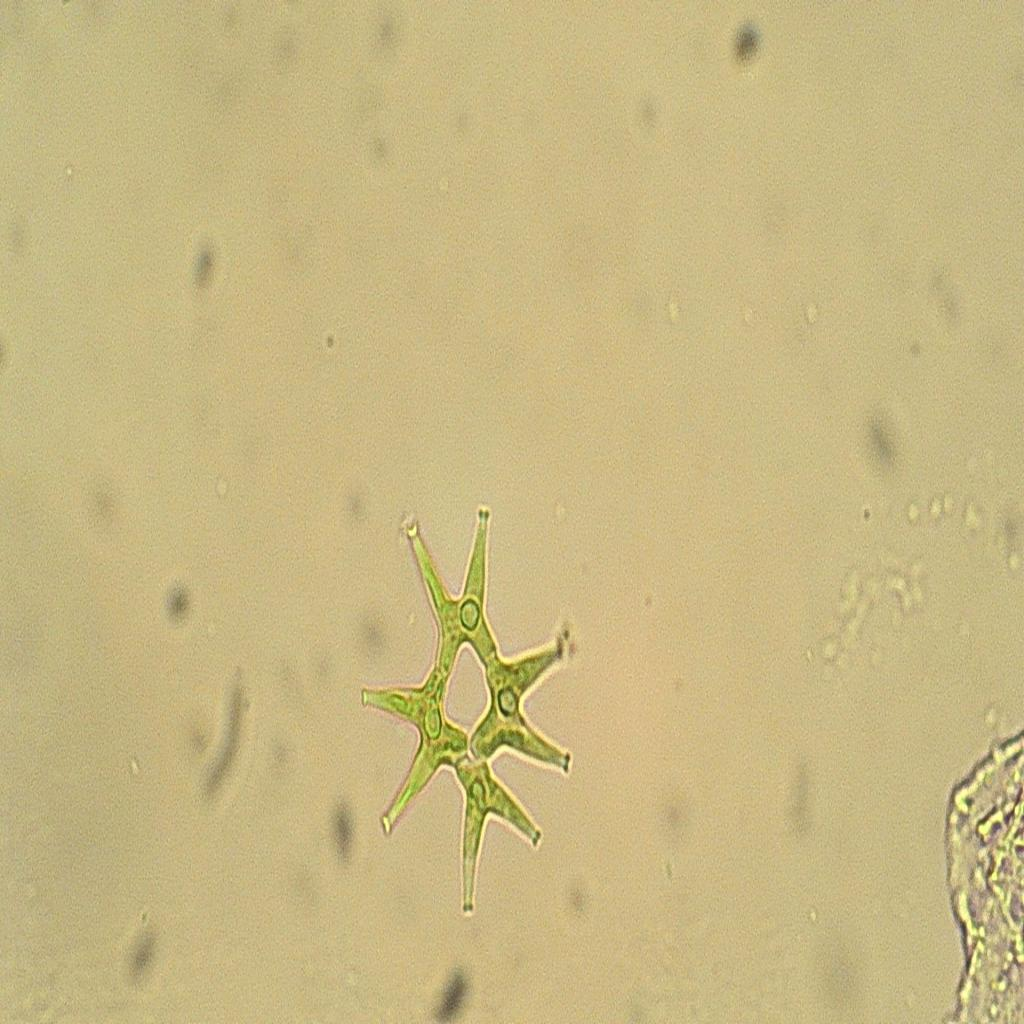Pediastrum_75FI: (354, 478, 592, 925)
